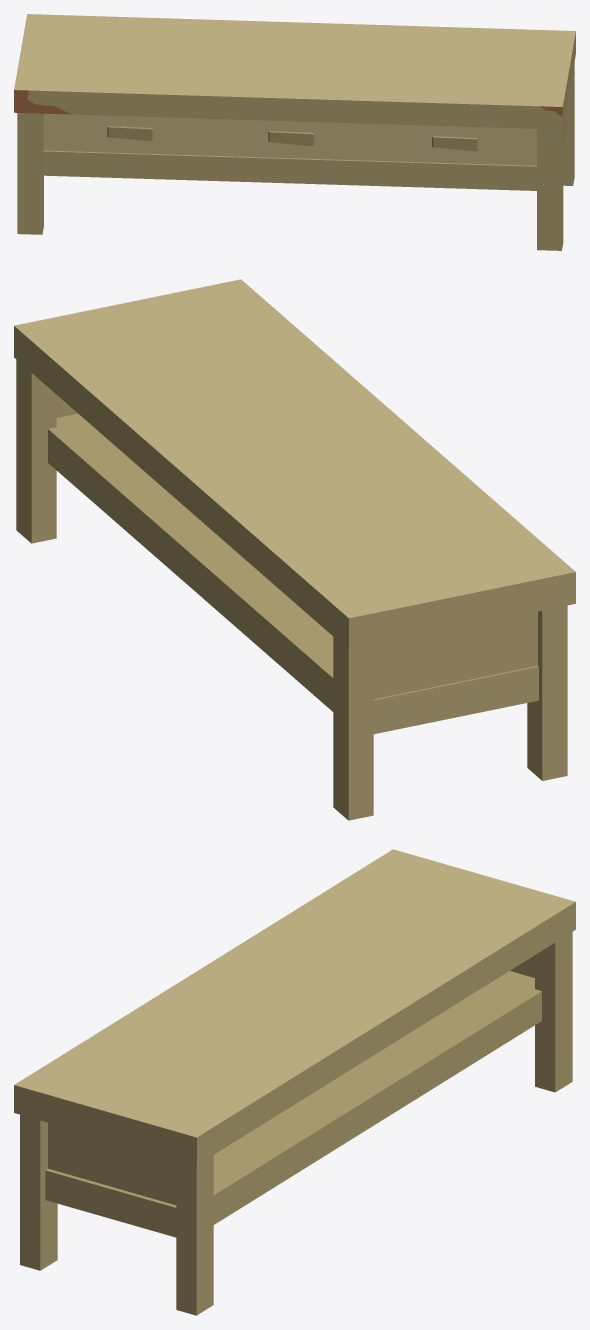
The model's file is MSH_QuestObject_cabinet_03.fbx.
3 renders of one model, top to bottom at view 1: azimuth 30°, elevation 25°; view 2: azimuth 150°, elevation 25°; view 3: azimuth 270°, elevation 25°, orthographic. The views are drawn at different scales.
Visible parts, largest first — view 1: MSH_QuestObject_cabinet_03; view 2: MSH_QuestObject_cabinet_03; view 3: MSH_QuestObject_cabinet_03.
Part boxes in pixels (x1,y1,x2,y2): MSH_QuestObject_cabinet_03: [14, 14, 575, 250]; MSH_QuestObject_cabinet_03: [14, 279, 575, 820]; MSH_QuestObject_cabinet_03: [14, 849, 575, 1315].
Bounding box in the file's own units: 4.84 × 1.4 × 3.99.
